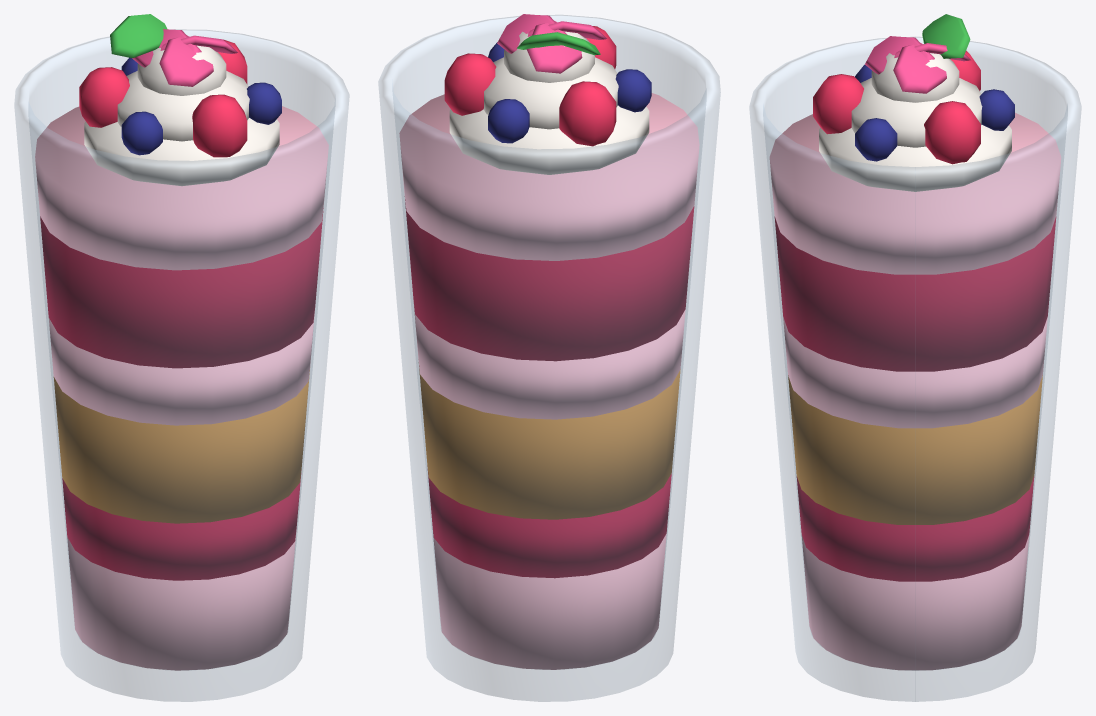
The picture shows the model from 3 angles, left to right: view 1: azimuth 30°, elevation 25°; view 2: azimuth 150°, elevation 25°; view 3: azimuth 270°, elevation 25°; orthographic projection. The views are drawn at different scales.
Parts seen in each view (by area): view 1: glass, layer (×6), cream (×3), raspberry (×3), rose_petals (×3), blueberry (×2), mint; view 2: glass, layer (×6), cream (×3), raspberry (×3), rose_petals (×3), blueberry (×2), mint; view 3: glass, layer (×6), cream (×3), raspberry (×3), rose_petals (×2), blueberry (×2), mint.
Boxes of the visible parts, box(x1,y1,x2,y2) form: glass: box(14, 29, 349, 701); layer (×6): box(35, 106, 328, 670); cream (×3): box(84, 45, 279, 186); raspberry (×3): box(79, 39, 247, 157); rose_petals (×3): box(132, 29, 237, 86); blueberry (×2): box(121, 82, 281, 155); mint: box(110, 14, 167, 58); glass: box(378, 15, 720, 701); layer (×6): box(399, 93, 699, 669); cream (×3): box(449, 31, 649, 174); raspberry (×3): box(444, 26, 616, 146); rose_petals (×3): box(497, 14, 606, 73); blueberry (×2): box(488, 69, 651, 143); mint: box(516, 32, 600, 55); glass: box(749, 37, 1081, 701); layer (×6): box(769, 112, 1061, 670); cream (×3): box(819, 44, 1011, 191); raspberry (×3): box(813, 50, 980, 164); rose_petals (×2): box(865, 36, 946, 93); blueberry (×2): box(855, 89, 1014, 161); mint: box(922, 14, 970, 58).
Bounding box in the file's own units: 0.072 × 0.148 × 0.072.
